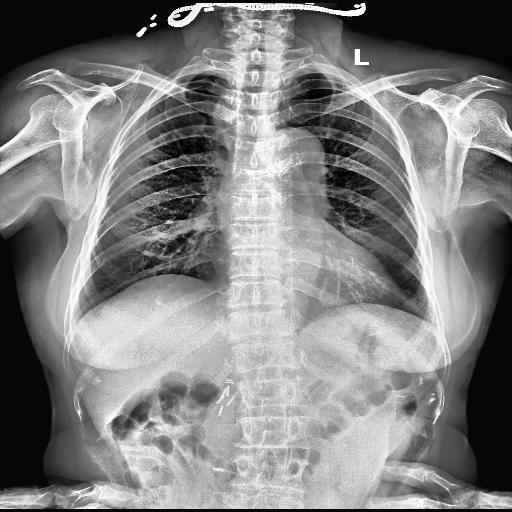0- Aortic enlargement: (260, 126, 328, 210), (266, 124, 326, 192), (268, 127, 324, 177)
